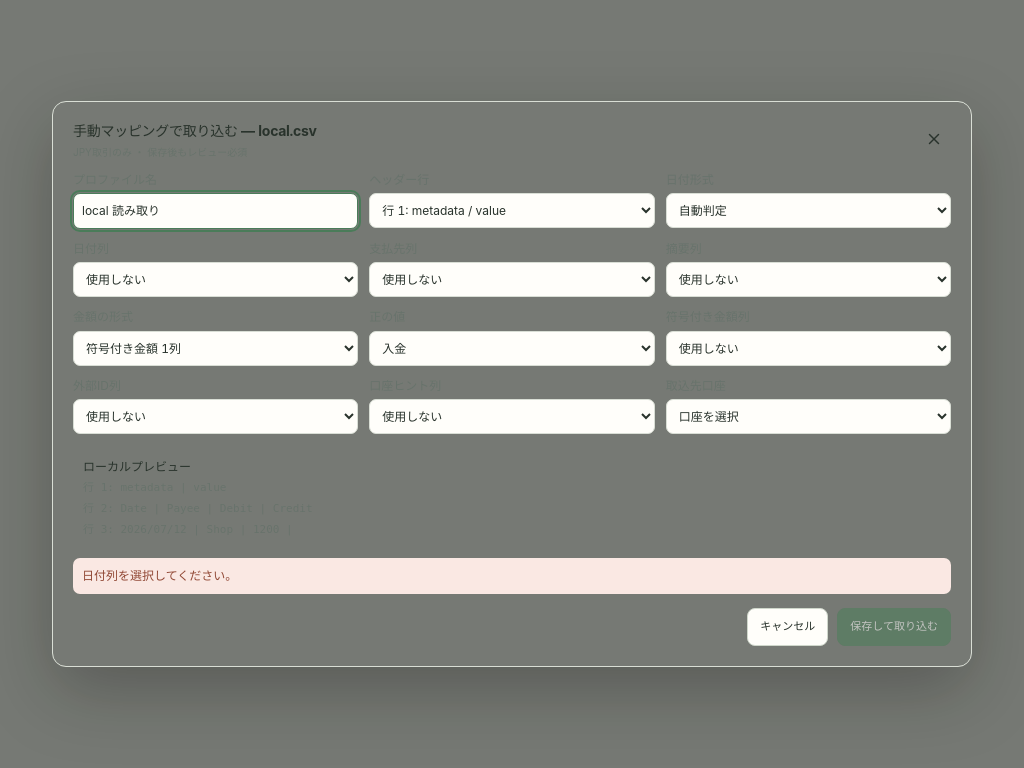
Test: CustomParserRescueDialog › clears stale mappings when the selected header row changes
This screenshot has width=1024, height=768.
Select "metadata" in the dropdown labelled "日付列" at (216, 280), box [73,262,358,297]
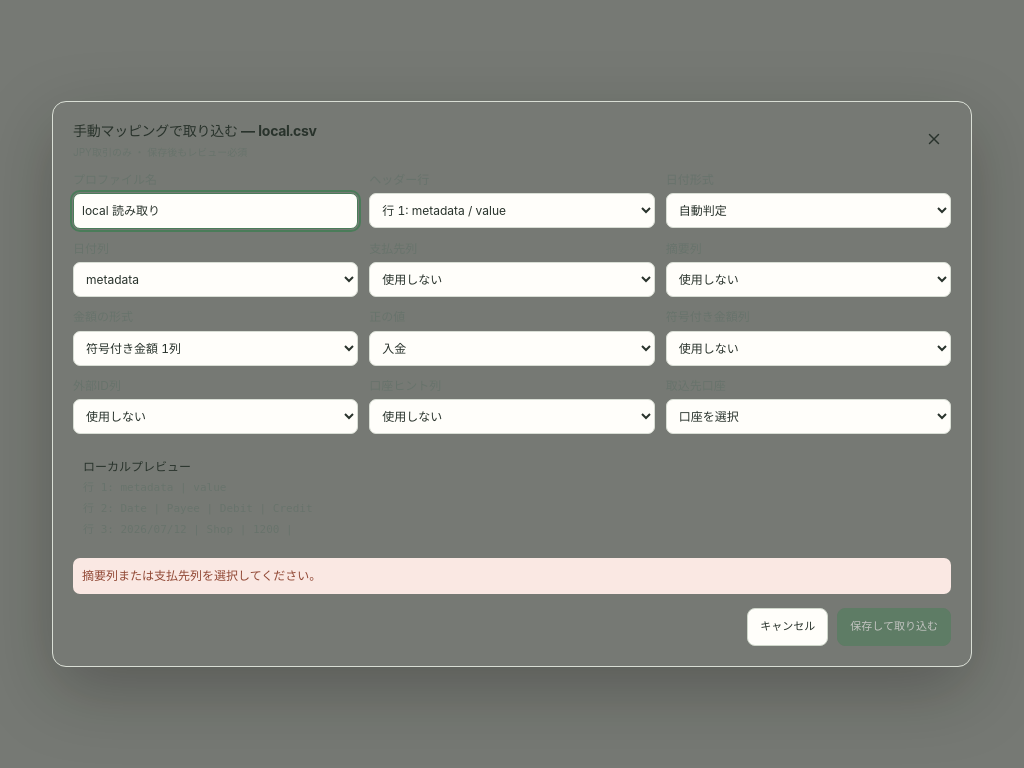
Select "行 2: Date / Payee / Debit" in the dropdown named "救済ヘッダー行" at (512, 211), box [369,194,655,228]
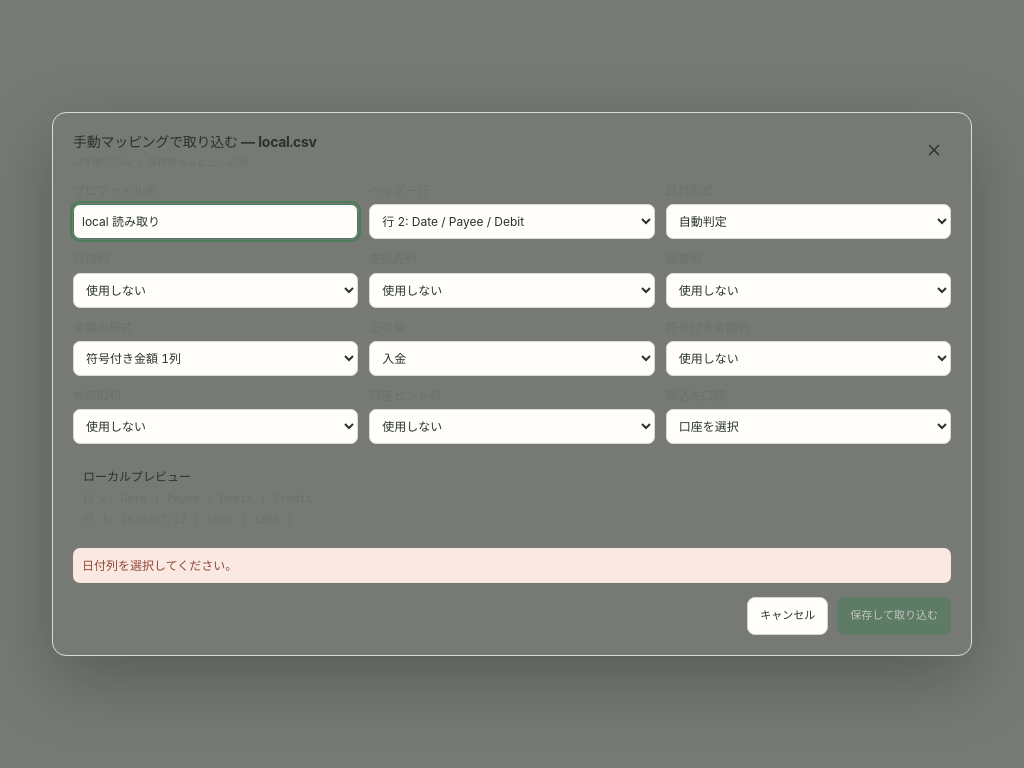
Expected: the text "metadata" is gone
